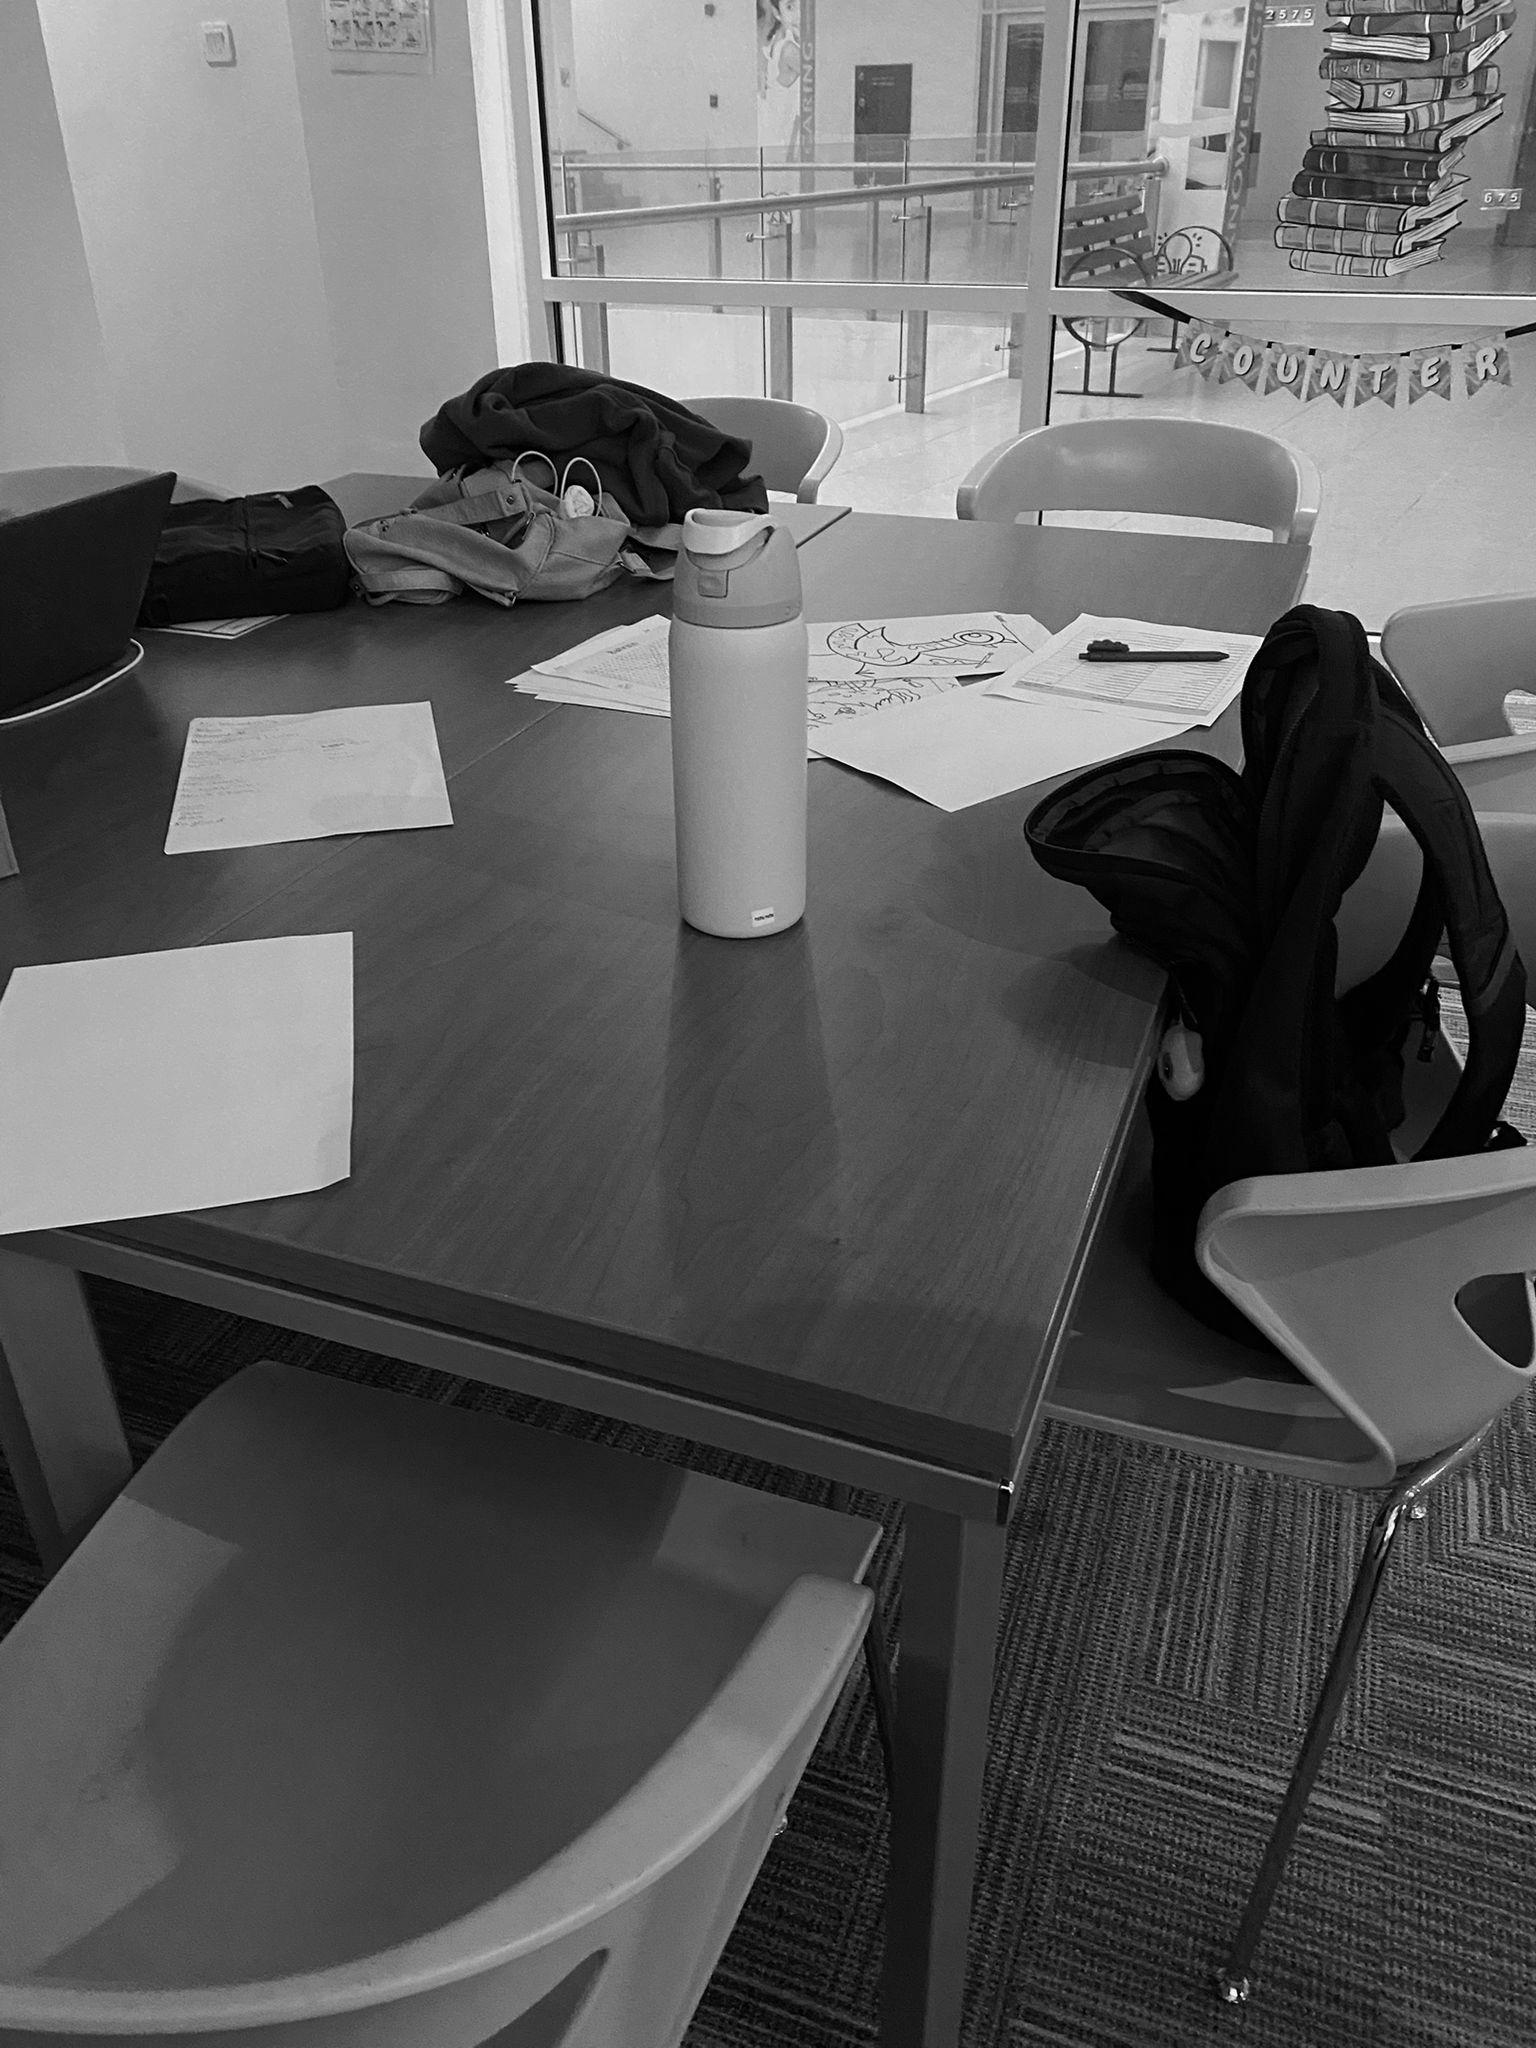Table: (0, 585, 1162, 2046), (784, 506, 1305, 635), (328, 472, 423, 514)
